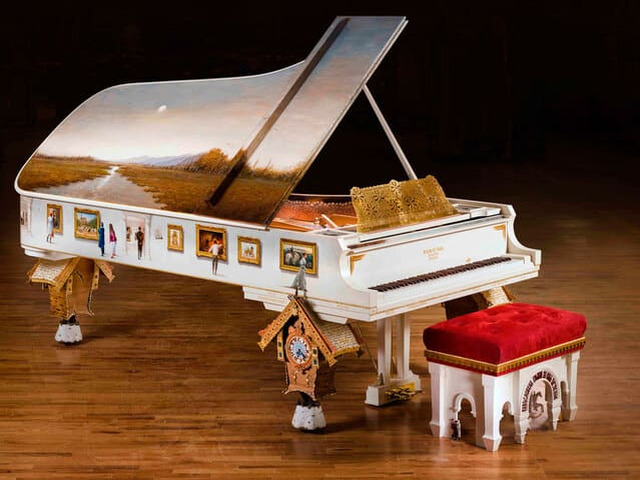Piano: (18, 13, 543, 430)
